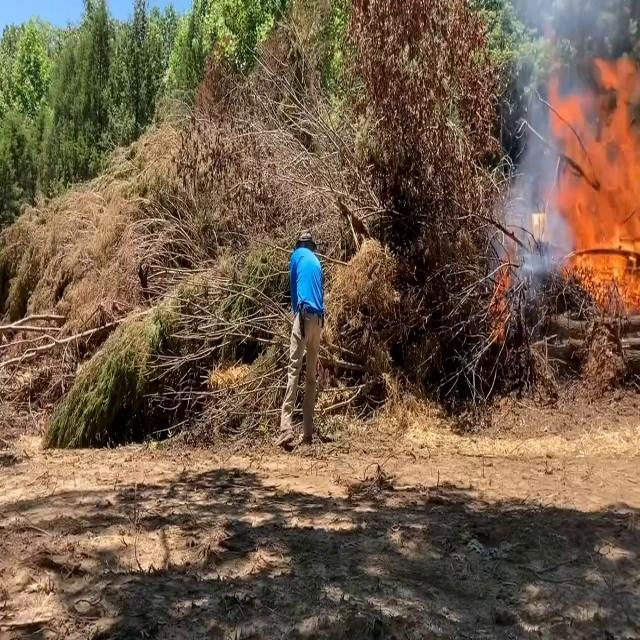Fire: (534, 50, 640, 318)
